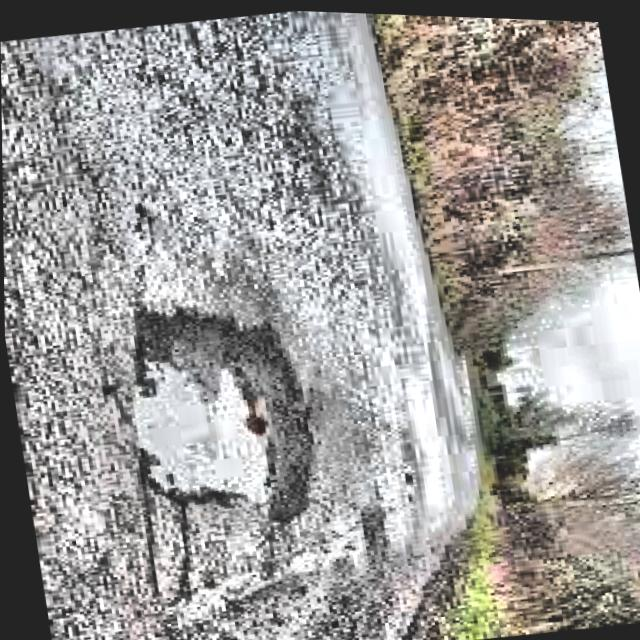Cracks: (135, 309, 320, 520)
